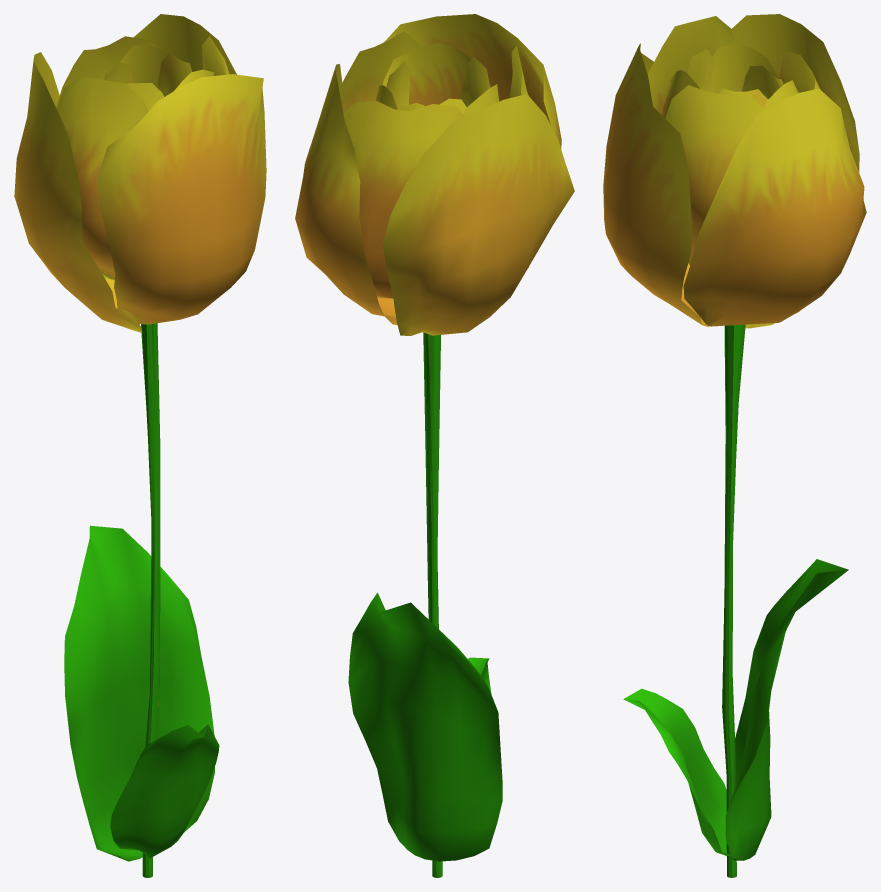
The model's file is simple_tulip.glb.
3 views of the same model, side by side, from view 1: azimuth 30°, elevation 25°; view 2: azimuth 150°, elevation 25°; view 3: azimuth 270°, elevation 25° (orthographic).
Visible parts, largest first — view 1: Tulip; view 2: Tulip; view 3: Tulip.
Boxes of the visible parts, x1,y1,x2,y2 form: Tulip: (14, 14, 266, 877); Tulip: (295, 14, 574, 877); Tulip: (603, 14, 866, 877).
Size of the model in its own units: 1.68 by 6.24 by 1.8.
Materials: 1 (1 with a texture image).
